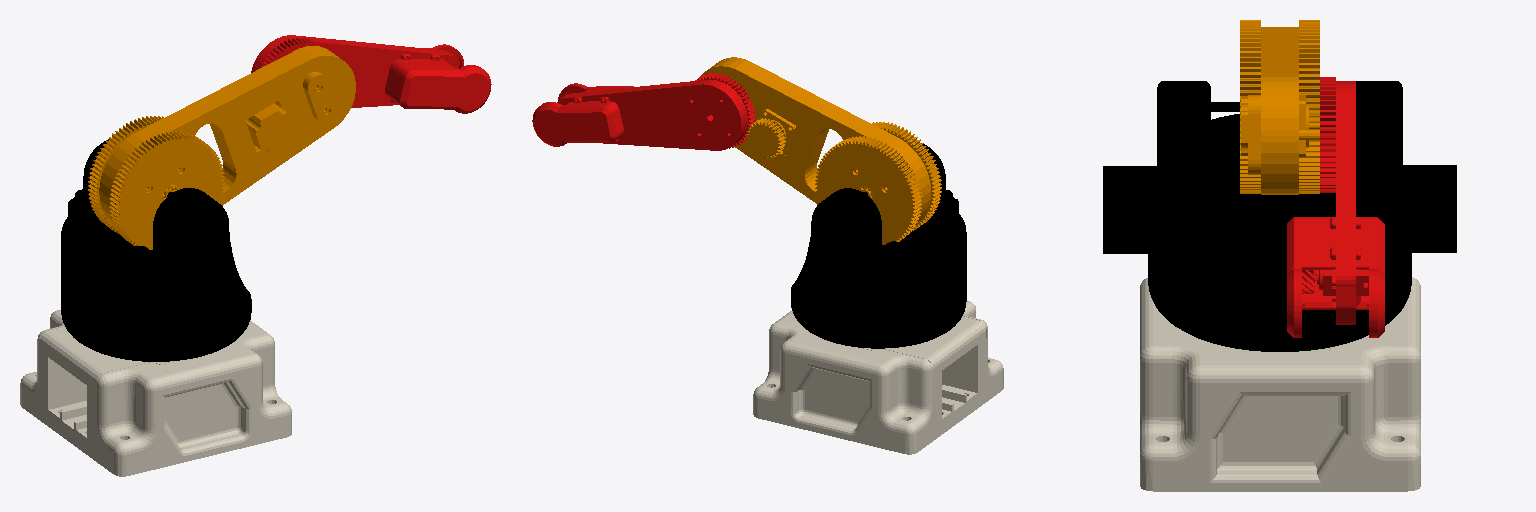
URDF robot description (urdf_ens_v14):
<?xml version="1.0" encoding="utf-8"?>
<!-- This URDF was automatically created by SolidWorks to URDF Exporter! Originally created by [author] ([email redacted]) 
     Commit Version: 1.6.0-4-g7f85cfe  Build Version: 1.6.7995.38578
     For more information, please see http://wiki.ros.org/sw_urdf_exporter -->
<robot
  name="urdf_ens_v14">
  <link
    name="base_link">
    <inertial>
      <origin
        xyz="0.0045282 9.9411E-06 0.047036"
        rpy="0 0 0" />
      <mass
        value="3.7998" />
      <inertia
        ixx="0.0168"
        ixy="2.1761E-06"
        ixz="-0.00074104"
        iyy="0.015307"
        iyz="1.1367E-05"
        izz="0.026526" />
    </inertial>
    <visual>
      <origin
        xyz="0 0 0"
        rpy="0 0 0" />
      <geometry>
        <mesh
          filename="package://urdf_ens_v14/meshes/base_link.STL" />
      </geometry>
      <material
        name="">
        <color
          rgba="0.84314 0.81569 0.75294 1" />
      </material>
    </visual>
    <collision>
      <origin
        xyz="0 0 0"
        rpy="0 0 0" />
      <geometry>
        <mesh
          filename="package://urdf_ens_v14/meshes/base_link.STL" />
      </geometry>
    </collision>
  </link>
  <link
    name="arm_link_1">
    <inertial>
      <origin
        xyz="-0.010368 -5.0518E-08 0.030493"
        rpy="0 0 0" />
      <mass
        value="2.9281" />
      <inertia
        ixx="0.013631"
        ixy="-2.8231E-09"
        ixz="0.00051643"
        iyy="0.010873"
        iyz="3.8916E-08"
        izz="0.013953" />
    </inertial>
    <visual>
      <origin
        xyz="0 0 0"
        rpy="0 0 0" />
      <geometry>
        <mesh
          filename="package://urdf_ens_v14/meshes/arm_link_1.STL" />
      </geometry>
      <material
        name="">
        <color
          rgba="0 0 0 1" />
      </material>
    </visual>
    <collision>
      <origin
        xyz="0 0 0"
        rpy="0 0 0" />
      <geometry>
        <mesh
          filename="package://urdf_ens_v14/meshes/arm_link_1.STL" />
      </geometry>
    </collision>
  </link>
  <joint
    name="arm_joint_1"
    type="revolute">
    <origin
      xyz="0 -0.00035 0.14"
      rpy="0 0 0" />
    <parent
      link="base_link" />
    <child
      link="arm_link_1" />
    <axis
      xyz="0 0 -1" />
    <limit
      lower="-1.57"
      upper="1.57"
      effort="0"
      velocity="0" />
  </joint>
  <link
    name="arm_link_2">
    <inertial>
      <origin
        xyz="0.055195 -0.018875 0.00012252"
        rpy="0 0 0" />
      <mass
        value="1.4743" />
      <inertia
        ixx="0.0020004"
        ixy="0.0016708"
        ixz="2.5869E-10"
        iyy="0.0063159"
        iyz="1.0274E-09"
        izz="0.0081461" />
    </inertial>
    <visual>
      <origin
        xyz="0 0 0"
        rpy="0 0 0" />
      <geometry>
        <mesh
          filename="package://urdf_ens_v14/meshes/arm_link_2.STL" />
      </geometry>
      <material
        name="">
        <color
          rgba="0.88 0.55 0 1" />
      </material>
    </visual>
    <collision>
      <origin
        xyz="0 0 0"
        rpy="0 0 0" />
      <geometry>
        <mesh
          filename="package://urdf_ens_v14/meshes/arm_link_2.STL" />
      </geometry>
    </collision>
  </link>
  <joint
    name="arm_joint_2"
    type="revolute">
    <origin
      xyz="0 0 0.127"
      rpy="-1.5708 0 0" />
    <parent
      link="arm_link_1" />
    <child
      link="arm_link_2" />
    <axis
      xyz="0 0 1" />
    <limit
      lower="-1.22"
      upper="0.87"
      effort="0"
      velocity="0" />
  </joint>
  <link
    name="arm_link_3">
    <inertial>
      <origin
        xyz="0.080238 0.019929 -0.0045918"
        rpy="0 0 0" />
      <mass
        value="0.49873" />
      <inertia
        ixx="0.00024822"
        ixy="-0.00025317"
        ixz="4.3983E-06"
        iyy="0.0012034"
        iyz="1.1183E-06"
        izz="0.0014147" />
    </inertial>
    <visual>
      <origin
        xyz="0 0 0"
        rpy="0 0 0" />
      <geometry>
        <mesh
          filename="package://urdf_ens_v14/meshes/arm_link_3.STL" />
      </geometry>
      <material
        name="">
        <color
          rgba="0.88 0.1 0.1 1" />
      </material>
    </visual>
    <collision>
      <origin
        xyz="0 0 0"
        rpy="0 0 0" />
      <geometry>
        <mesh
          filename="package://urdf_ens_v14/meshes/arm_link_3.STL" />
      </geometry>
    </collision>
  </link>
  <joint
    name="arm_joint_3"
    type="revolute">
    <origin
      xyz="0.18451 -0.063087 0.04904"
      rpy="0 0 0" />
    <parent
      link="arm_link_2" />
    <child
      link="arm_link_3" />
    <axis
      xyz="0 0 1" />
    <limit
      lower="-1.74"
      upper="1.22"
      effort="0"
      velocity="0" />
  </joint>
  <link
    name="arm_link_4">
    <inertial>
      <origin
        xyz="0.049693 -0.064958 -0.021851"
        rpy="0 0 0" />
      <mass
        value="0.31791" />
      <inertia
        ixx="0.00015589"
        ixy="4.0119E-05"
        ixz="-1.8787E-07"
        iyy="0.00010992"
        iyz="-6.522E-07"
        izz="0.00011596" />
    </inertial>
    <visual>
      <origin
        xyz="0 0 0"
        rpy="0 0 0" />
      <geometry>
        <mesh
          filename="package://urdf_ens_v14/meshes/arm_link_4.STL" />
      </geometry>
      <material
        name="">
        <color
          rgba="0.11 0.11 0.88 1" />
      </material>
    </visual>
    <collision>
      <origin
        xyz="0 0 0"
        rpy="0 0 0" />
      <geometry>
        <mesh
          filename="package://urdf_ens_v14/meshes/arm_link_4.STL" />
      </geometry>
    </collision>
  </link>
  <joint
    name="arm_joint_4"
    type="revolute">
    <origin
      xyz="0.19396 0.048233 -0.03012"
      rpy="-3.1416 0 0" />
    <parent
      link="arm_link_3" />
    <child
      link="arm_link_4" />
    <axis
      xyz="0 0 -1" />
    <limit
      lower="-1.22"
      upper="1.04"
      effort="0"
      velocity="0" />
  </joint>

  <transmission name ="trans_1">
    <type>transmission_interface/SimpleTransmission</type>
    <joint name="arm_joint_1">
        <hardwareInterface>hardware_interface/PositionJointInterface</hardwareInterface>
    </joint>
    <actuator name="motor_1">
        <hardwareInterface>hardware_interface/PositionJointInterface</hardwareInterface>
        <mechanicalReduction>1</mechanicalReduction>
    </actuator>
</transmission>

<transmission name ="trans_2">
    <type>transmission_interface/SimpleTransmission</type>
    <joint name="arm_joint_2">
        <hardwareInterface>hardware_interface/PositionJointInterface</hardwareInterface>
    </joint>
    <actuator name="motor_2">
        <hardwareInterface>hardware_interface/PositionJointInterface</hardwareInterface>
        <mechanicalReduction>1</mechanicalReduction>
    </actuator>
</transmission>
<transmission name ="trans_3">
    <type>transmission_interface/SimpleTransmission</type>
    <joint name="arm_joint_3">
        <hardwareInterface>hardware_interface/PositionJointInterface</hardwareInterface>
    </joint>
    <actuator name="motor_3">
        <hardwareInterface>hardware_interface/PositionJointInterface</hardwareInterface>
        <mechanicalReduction>1</mechanicalReduction>
    </actuator>
</transmission>
<transmission name ="trans_4">
    <type>transmission_interface/SimpleTransmission</type>
    <joint name="arm_joint_4">
        <hardwareInterface>hardware_interface/PositionJointInterface</hardwareInterface>
    </joint>
    <actuator name="motor_4">
        <hardwareInterface>hardware_interface/PositionJointInterface</hardwareInterface>
        <mechanicalReduction>1</mechanicalReduction>
    </actuator>
</transmission>
</robot>

--- Facts derived from the render (not from the file) ---
3 views of the same robot in one strip: view 1: azimuth 30°, elevation 25°; view 2: azimuth 150°, elevation 25°; view 3: azimuth 270°, elevation 25° (orthographic).
Model urdf_ens_v14 with 5 links and 4 joints (4 revolute), rooted at base_link, posed every joint at zero.
Visible links, largest first — view 1: base_link, arm_link_1, arm_link_2, arm_link_3; view 2: base_link, arm_link_1, arm_link_2, arm_link_3; view 3: arm_link_1, base_link, arm_link_3, arm_link_2.
Boxes of the visible links, <box> form: base_link: <box>20,310,291,476</box>; arm_link_1: <box>61,139,251,361</box>; arm_link_2: <box>88,46,355,249</box>; arm_link_3: <box>251,35,491,113</box>; base_link: <box>753,301,1003,454</box>; arm_link_1: <box>791,144,966,348</box>; arm_link_2: <box>700,57,941,244</box>; arm_link_3: <box>532,73,755,150</box>; arm_link_1: <box>1103,81,1456,351</box>; base_link: <box>1140,277,1420,491</box>; arm_link_3: <box>1287,77,1384,337</box>; arm_link_2: <box>1240,20,1319,194</box>.
Size in the robot's own frame: 0.5094 by 0.264 by 0.375 metres.
Meshes: 5 distinct files referenced, 4 mesh visuals loaded (4 binary STL); not drawn: 1 (reference not matched to a file when rendering).